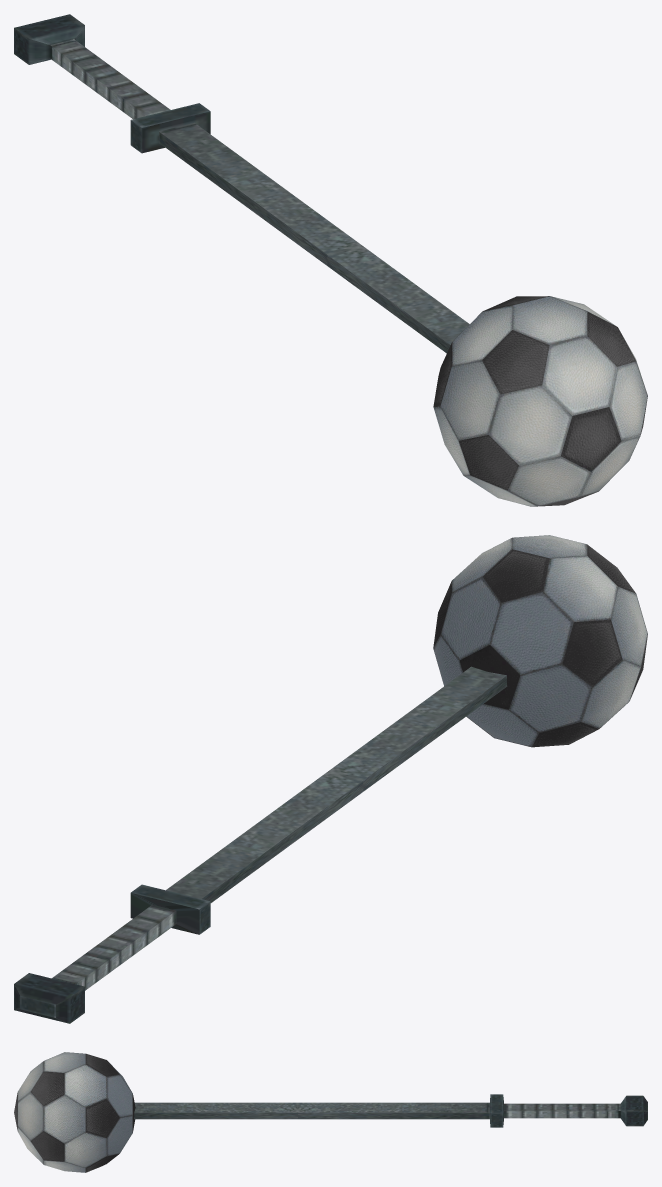
3 renders of one model, top to bottom at view 1: azimuth 30°, elevation 25°; view 2: azimuth 150°, elevation 25°; view 3: azimuth 270°, elevation 25°, orthographic. The views are drawn at different scales.
Parts seen in each view (by area): view 1: i004013; view 2: i004013; view 3: i004013.
Part boxes in pixels (<box>): i004013: <box>14,14,647,506</box>; i004013: <box>14,535,647,1023</box>; i004013: <box>14,1052,647,1172</box>.
Bounding box in the file's own units: 30.15 × 29.82 × 159.
1 material, 1 textured.
